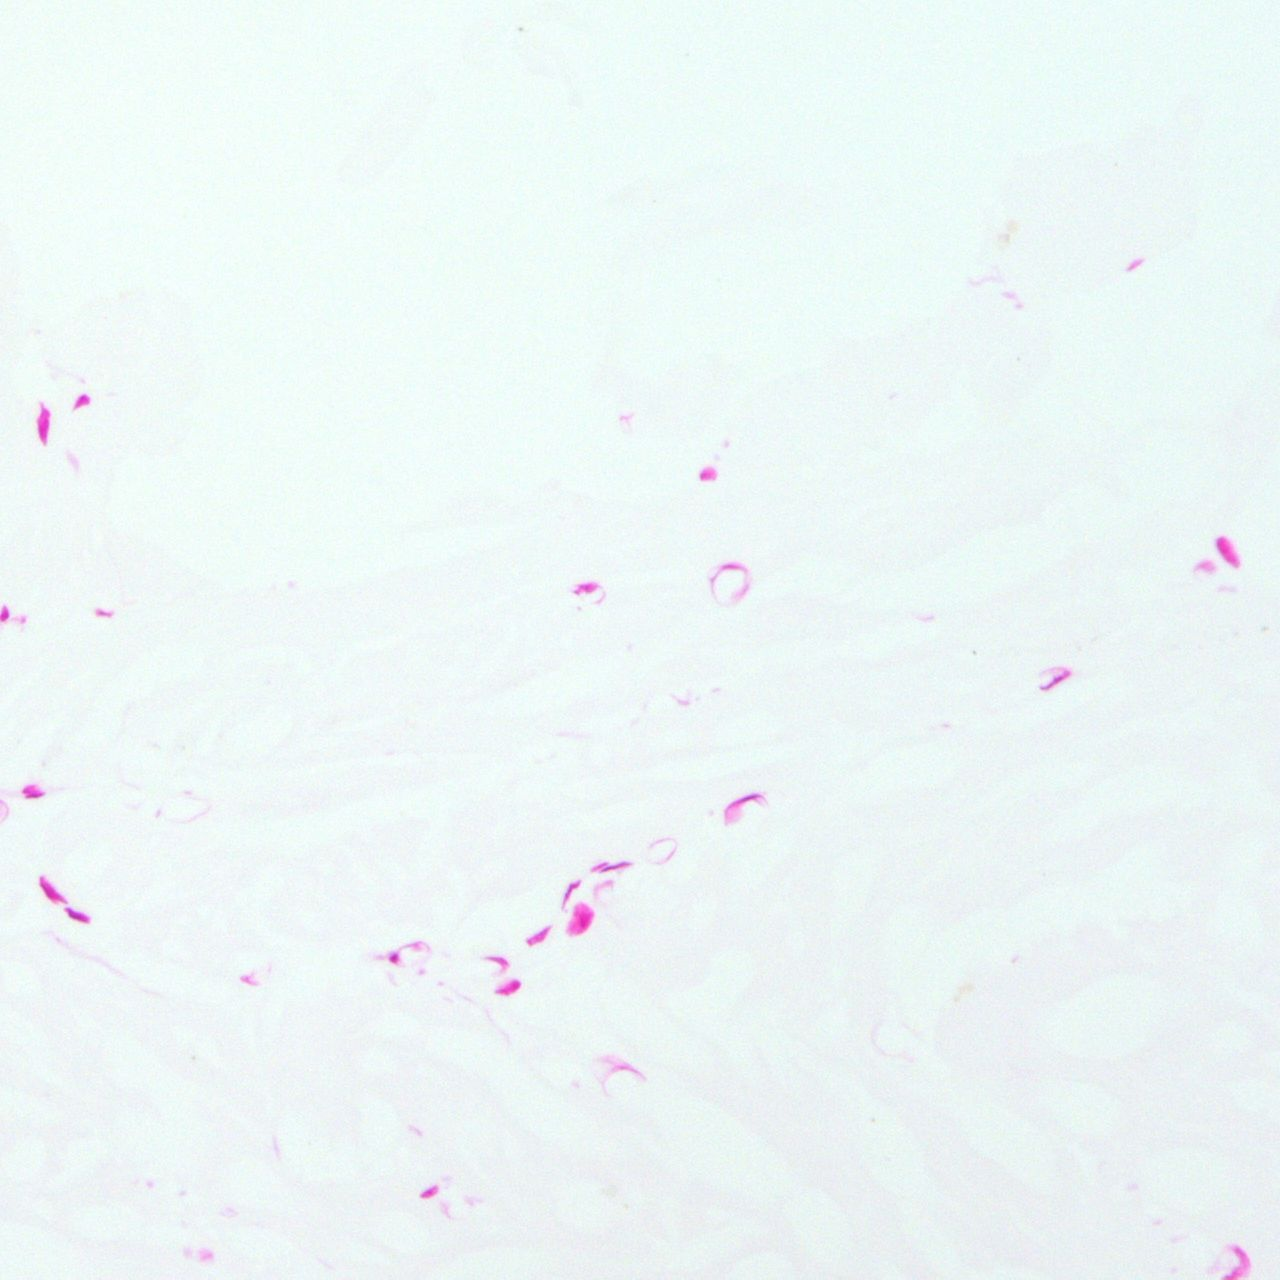nucleus-FG: (719, 789, 768, 825), (561, 896, 598, 941), (1033, 656, 1074, 694), (1212, 535, 1242, 570), (35, 874, 64, 907), (560, 876, 583, 907), (525, 924, 554, 947), (493, 975, 520, 999), (38, 406, 50, 445), (64, 906, 91, 925), (416, 1183, 442, 1201), (598, 859, 629, 874), (72, 392, 93, 411), (21, 782, 45, 799), (700, 467, 717, 481), (388, 949, 401, 964)
